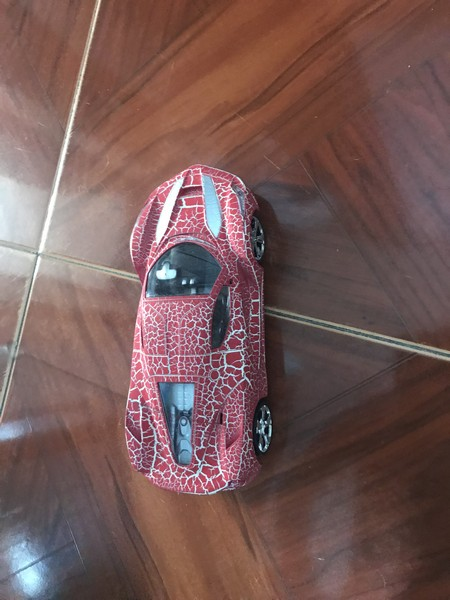RC: (120, 164, 275, 499)
